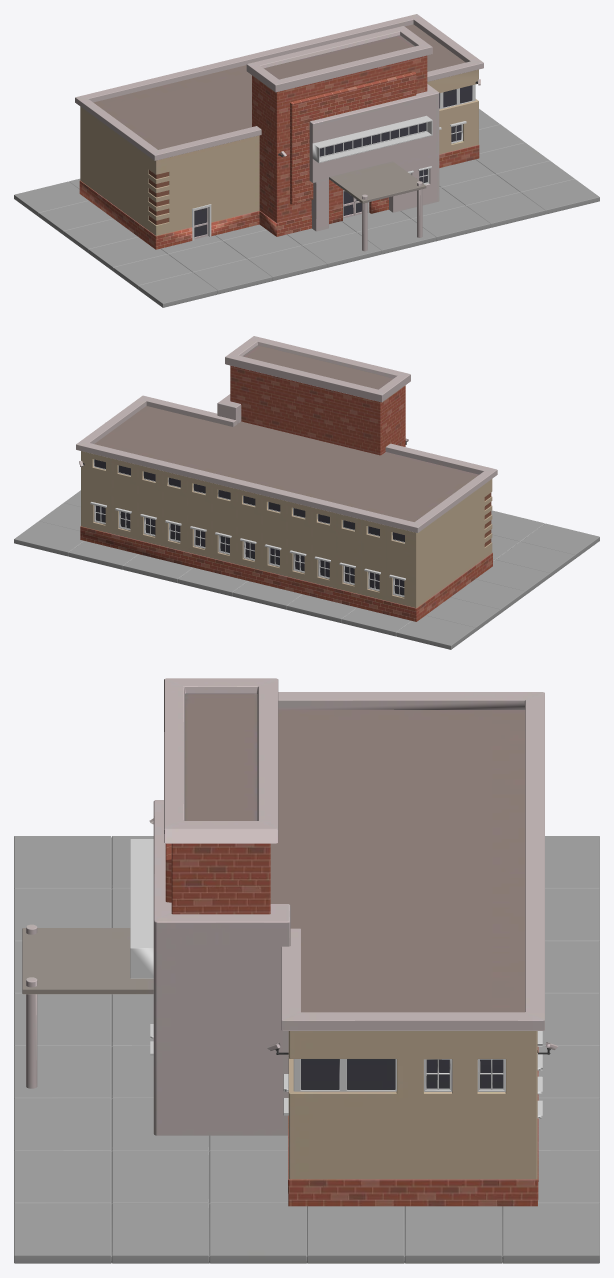
Rendered from police-station.glb.
The picture shows the model from 3 angles, top to bottom: view 1: azimuth 30°, elevation 25°; view 2: azimuth 150°, elevation 25°; view 3: azimuth 270°, elevation 25°; orthographic projection. The views are drawn at different scales.
Visible parts, largest first — view 1: police_station.1; view 2: police_station.1; view 3: police_station.1.
Part boxes in pixels (x1,y1,x2,y2): police_station.1: (14,14,599,307); police_station.1: (14,336,599,649); police_station.1: (14,678,599,1263).
Bounding box in the file's own units: 7.15 × 2.47 × 4.22.
1 material, 1 textured.
